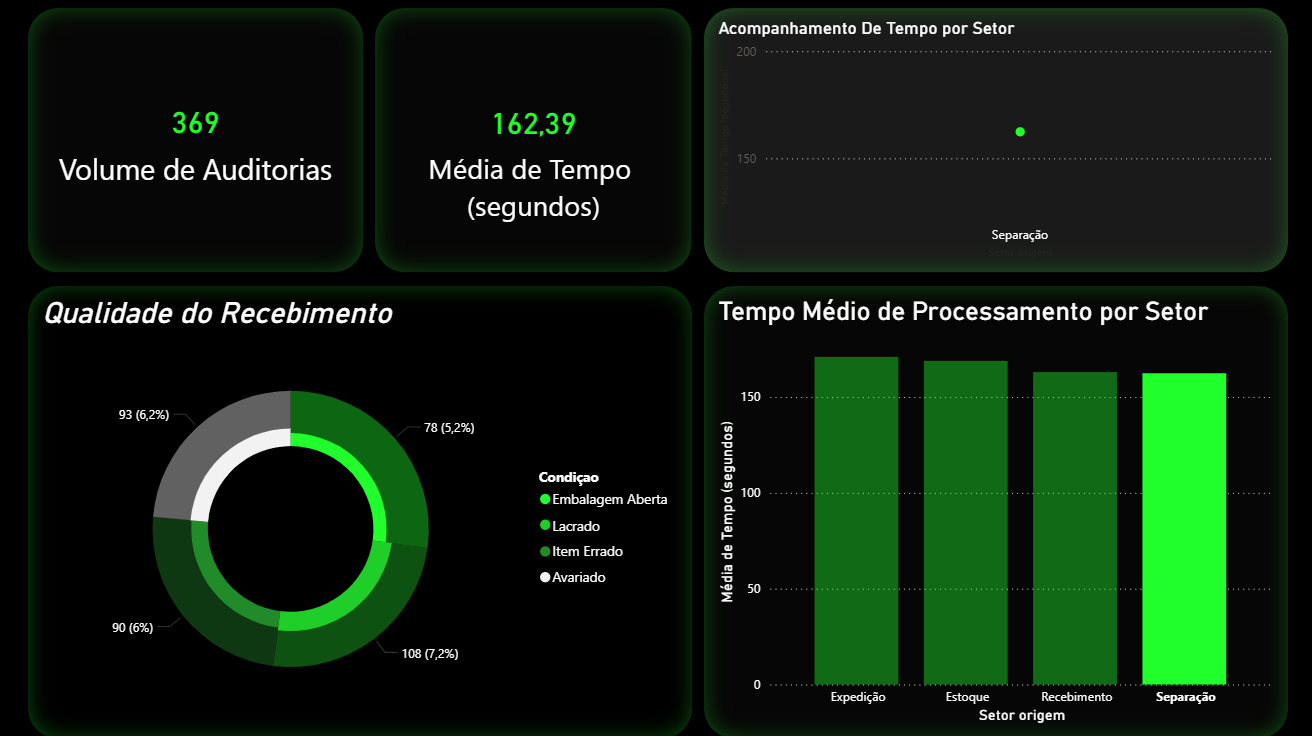

The page's visual inventory and layout, read from the dashboard file:
{"tool":"powerbi","page":{"name":"Página 1","canvas":[1280,720],"ordinal":0},"visuals":[{"type":"clusteredColumnChart","title":"Tempo Médio de Processamento por Setor","fields":{"Category":["base_completa_cajamar csv.Setor origem"],"Y":["Avg(base_completa_cajamar csv.Tempo (segundos))"]},"box":[686.7,278.2,570,441.6],"z":0},{"type":"card","fields":{"Values":["CountNonNull(base_completa_cajamar csv.ID)"]},"box":[29.2,7.8,327.8,258.7],"z":1000},{"type":"donutChart","title":"Qualidade do Recebimento","fields":{"Category":["base_completa_cajamar csv.Condiçao"],"Y":["CountNonNull(base_completa_cajamar csv.ID)"]},"box":[29.2,278.2,647.8,441.6],"z":2000},{"type":"card","fields":{"Values":["Avg(base_completa_cajamar csv.Tempo (segundos))"]},"box":[366.7,7.8,310.3,258.7],"z":3000},{"type":"areaChart","title":"Acompanhamento De Tempo por Setor","fields":{"Category":["base_completa_cajamar csv.Setor origem"],"Y":["Avg(base_completa_cajamar csv.Tempo (segundos))"]},"box":[686.7,7.8,570,258.7],"z":4000}]}

Visuals, with their boxes in screenshot pixels (x1, y1, x2, y2), scaled from the page's 1280x720 canvas onto the 1312x736 screenshot:
"Tempo Médio de Processamento por Setor" clusteredColumnChart: bbox=(704, 284, 1288, 735)
card - CountNonNull(base_completa_cajamar csv.ID): bbox=(30, 8, 366, 272)
"Qualidade do Recebimento" donutChart: bbox=(30, 284, 694, 735)
card - Avg(base_completa_cajamar csv.Tempo (segundos)): bbox=(376, 8, 694, 272)
"Acompanhamento De Tempo por Setor" areaChart: bbox=(704, 8, 1288, 272)
